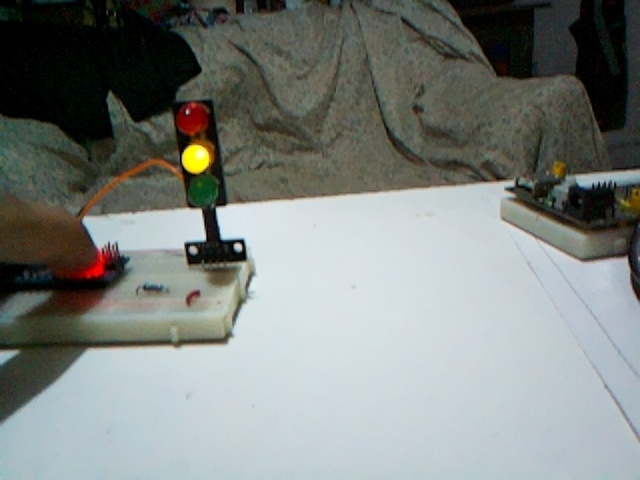traffic_light_yellow: (174, 100, 226, 209)
